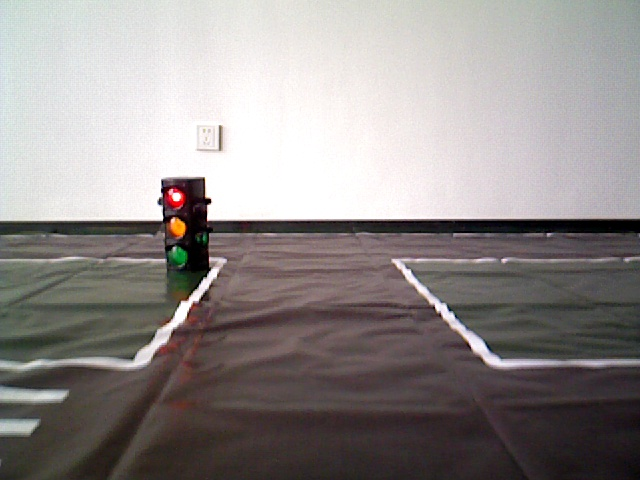red: (162, 179, 208, 275)
